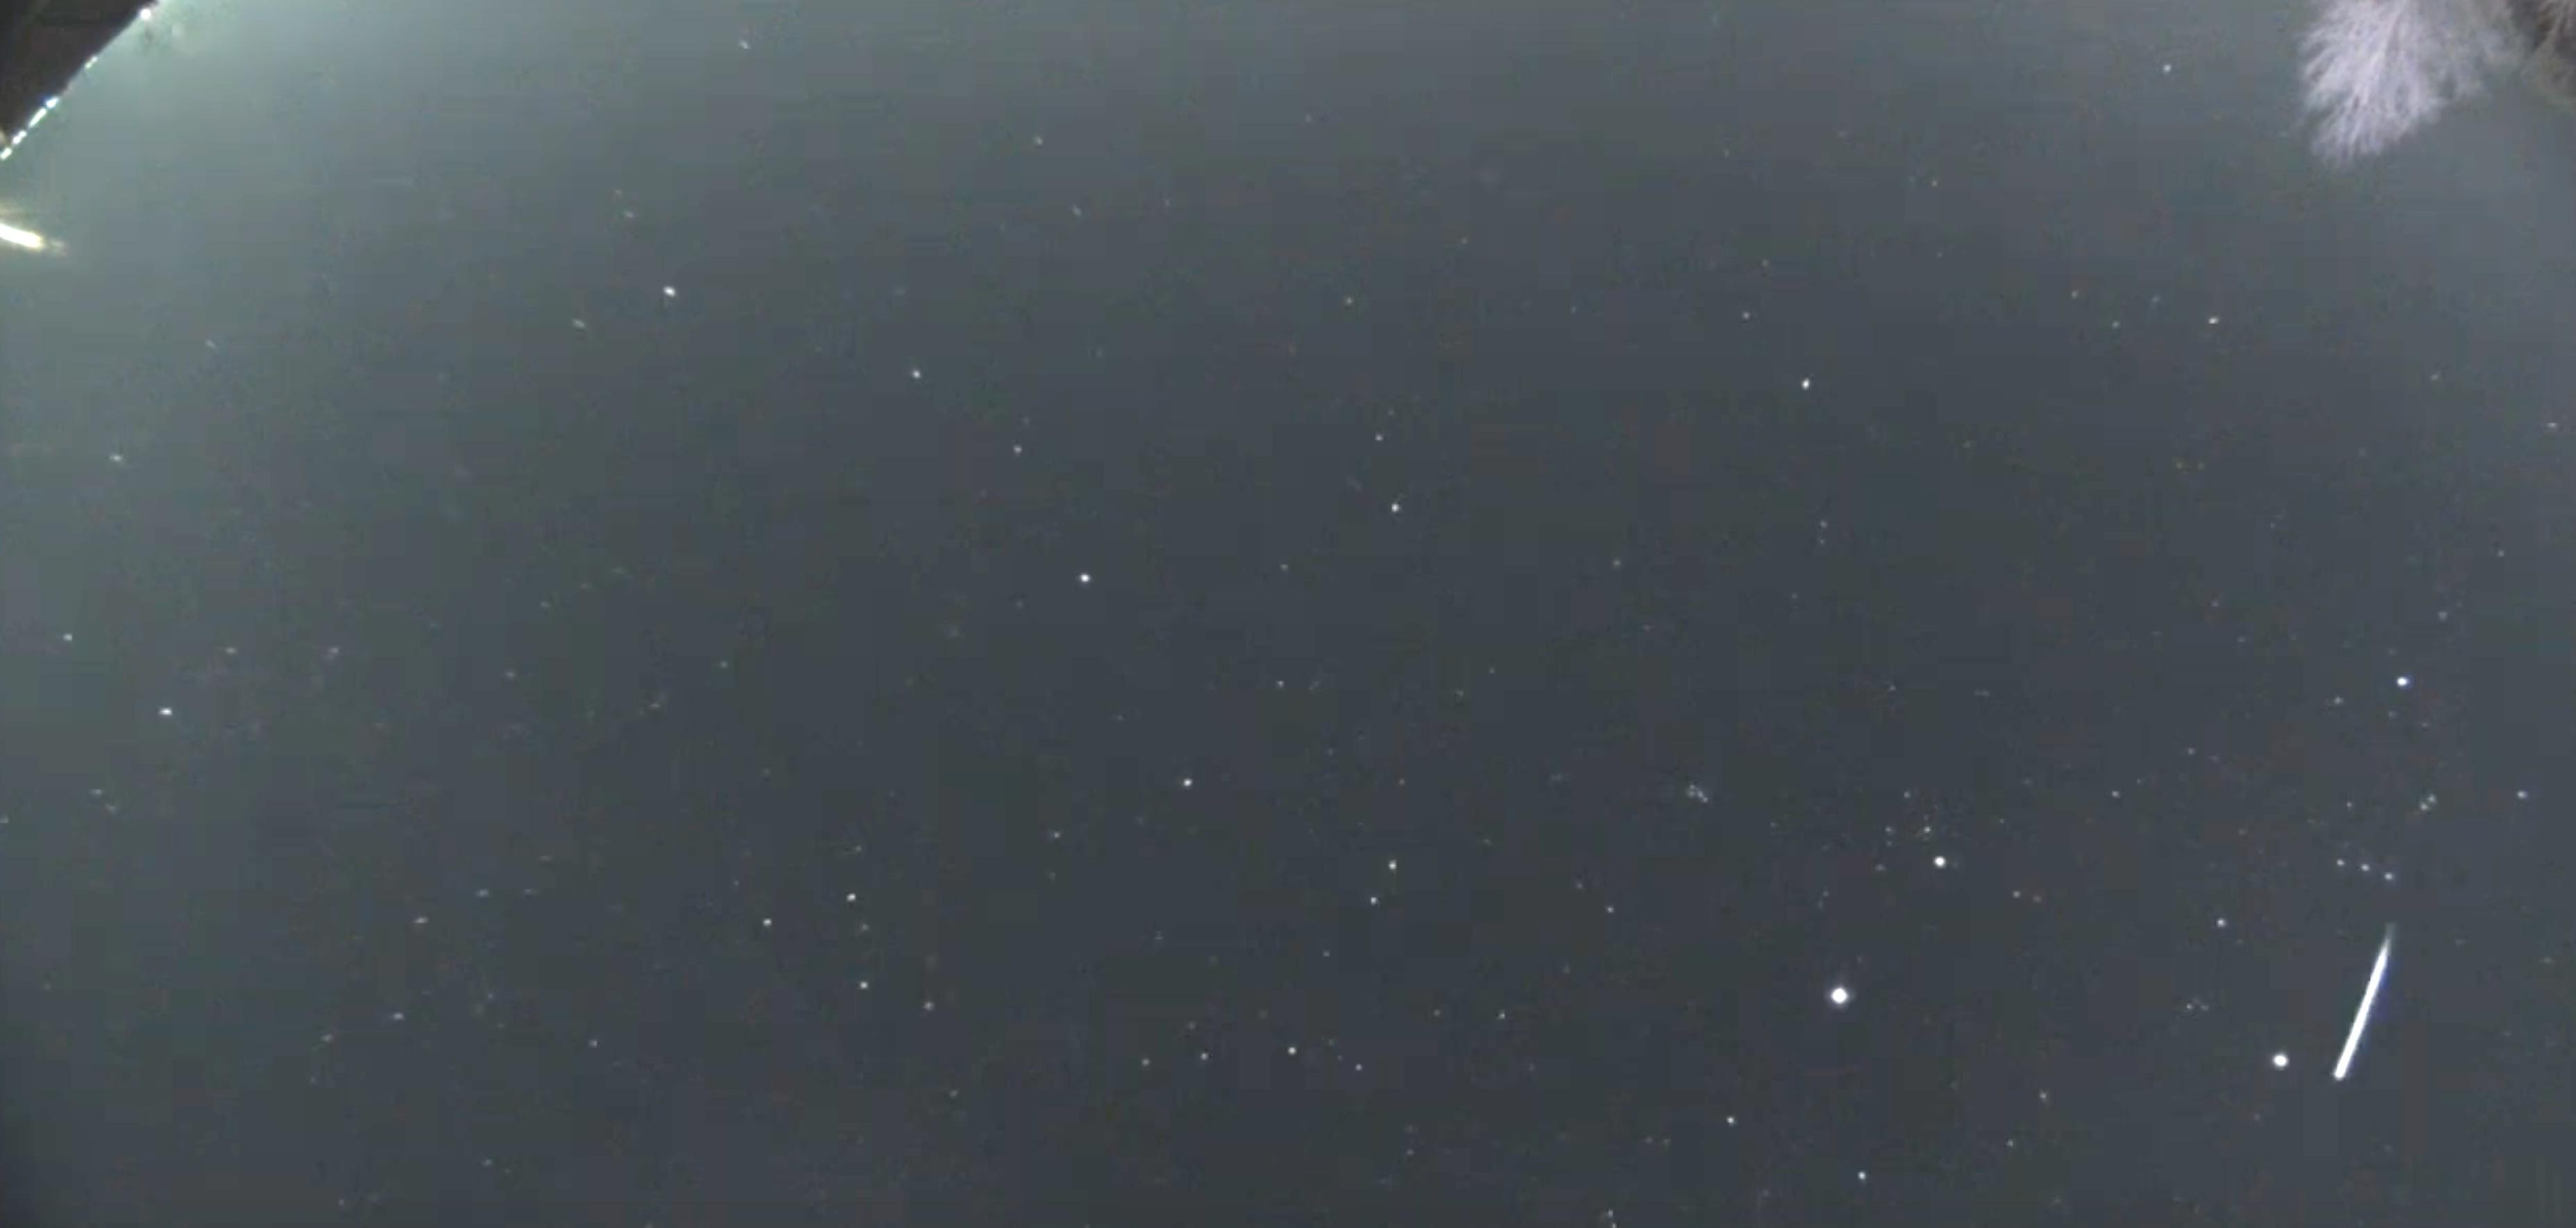meteorite: (2298, 908, 2405, 1098)
